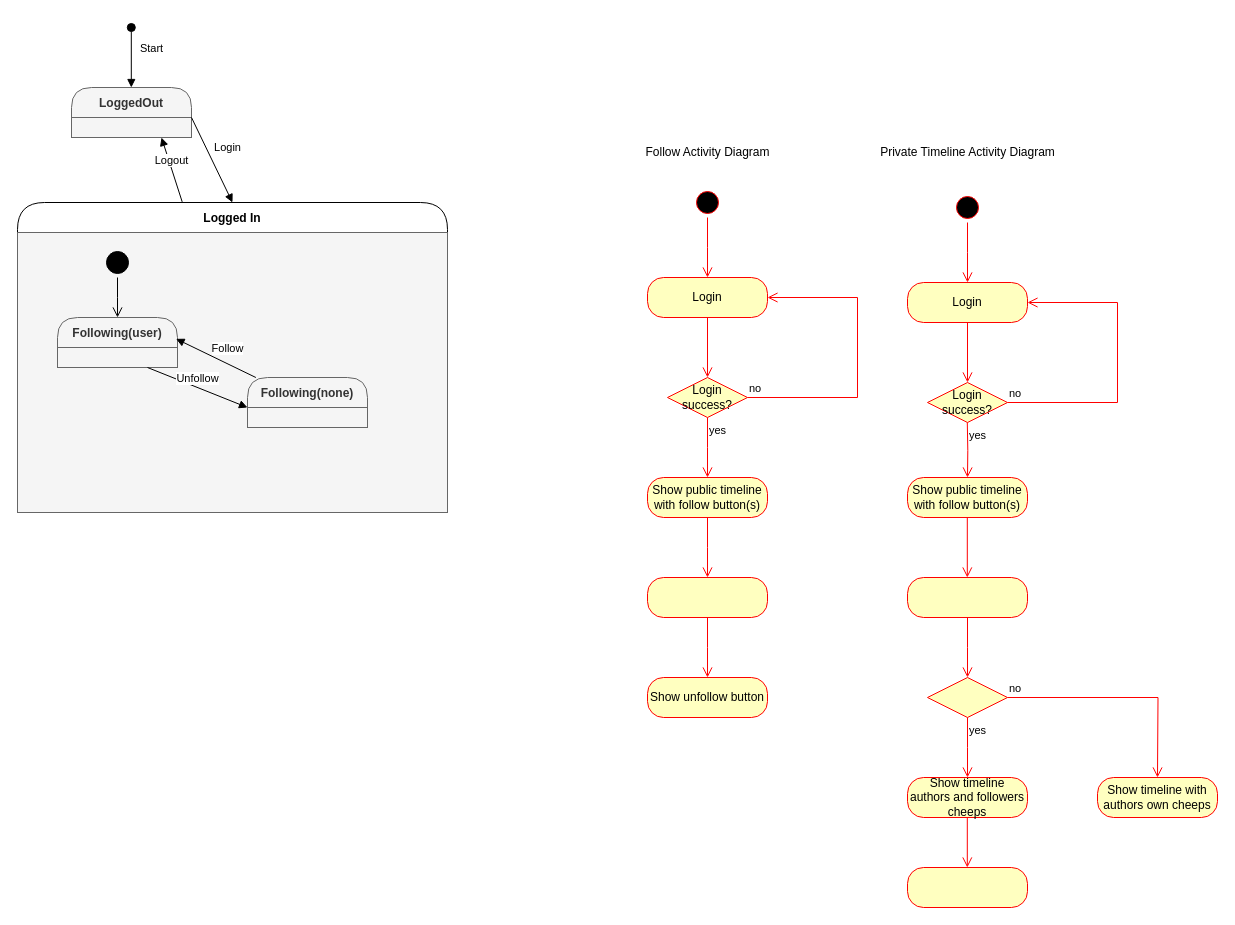
Image size: 1235x925. Some labels were removed from this diagram. The shapes that lost their labels are listed below. From the top down, each one's centre as x and y in pixels, then its label:
At [707,597]: "Click follow button".
At [967,597]: "Goto Private Timeline".
At [967,697]: "Does the author follow anyone?".
At [967,887]: "Show unfollow button next to other authors".
